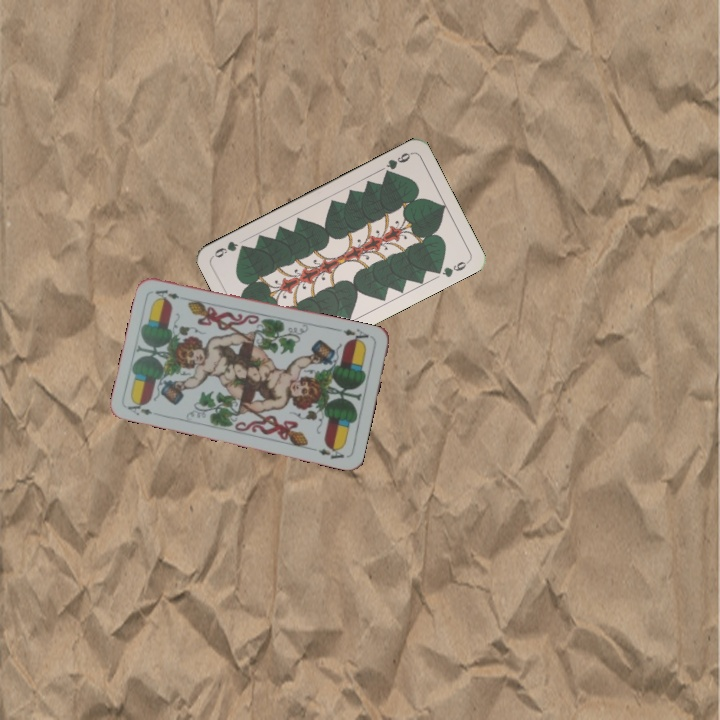EA: (339, 325, 371, 347), (123, 397, 155, 418)
G9: (380, 148, 415, 178)
